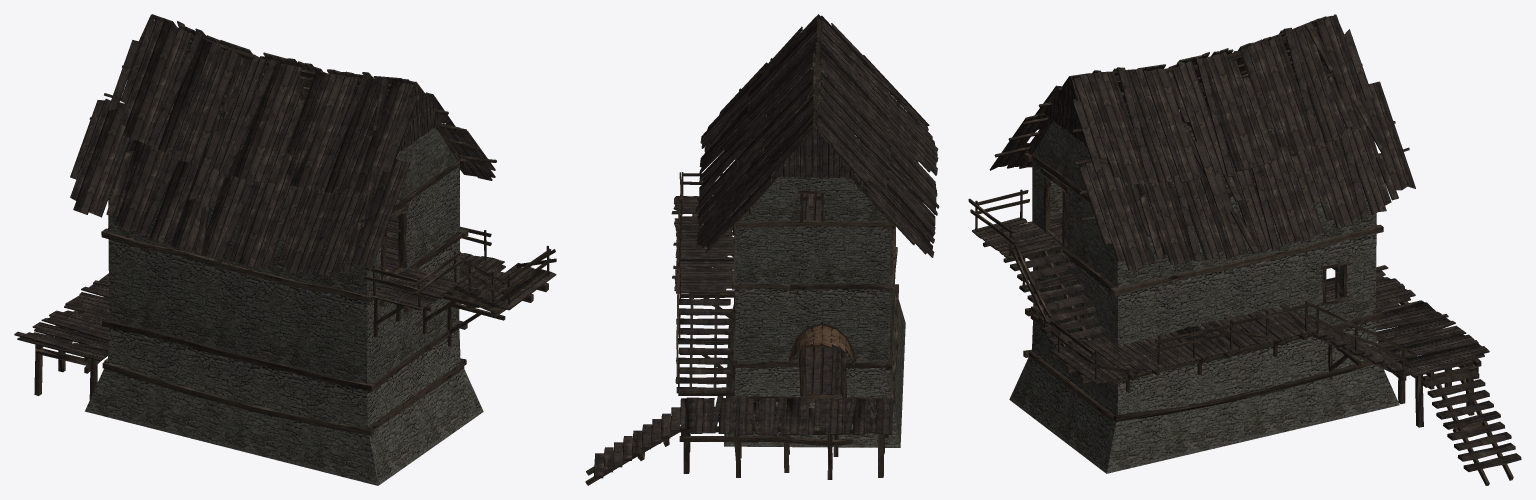
File: G3_Myrtana_Ardea_House_Storage_01.obj
The picture shows the model from 3 angles, left to right: view 1: azimuth 30°, elevation 25°; view 2: azimuth 150°, elevation 25°; view 3: azimuth 270°, elevation 25°; orthographic projection. The views are drawn at different scales.
Visible parts, largest first — view 1: G3_Myrtana_Ardea_House_Storage_01_2, G3_Myrtana_Ardea_House_Storage_01_0, G3_Myrtana_Ardea_House_Storage_01_3; view 2: G3_Myrtana_Ardea_House_Storage_01_2, G3_Myrtana_Ardea_House_Storage_01_0, G3_Myrtana_Ardea_House_Storage_01_3, G3_Myrtana_Ardea_House_Storage_01_1; view 3: G3_Myrtana_Ardea_House_Storage_01_2, G3_Myrtana_Ardea_House_Storage_01_0, G3_Myrtana_Ardea_House_Storage_01_3.
Part boxes in pixels (left/top/right/bottom): G3_Myrtana_Ardea_House_Storage_01_2: left=14, top=14, right=556, bottom=361; G3_Myrtana_Ardea_House_Storage_01_0: left=85, top=60, right=483, bottom=485; G3_Myrtana_Ardea_House_Storage_01_3: left=34, top=19, right=556, bottom=435; G3_Myrtana_Ardea_House_Storage_01_2: left=593, top=14, right=939, bottom=478; G3_Myrtana_Ardea_House_Storage_01_0: left=724, top=62, right=905, bottom=447; G3_Myrtana_Ardea_House_Storage_01_3: left=585, top=19, right=898, bottom=485; G3_Myrtana_Ardea_House_Storage_01_1: left=790, top=325, right=854, bottom=366; G3_Myrtana_Ardea_House_Storage_01_2: left=972, top=14, right=1521, bottom=471; G3_Myrtana_Ardea_House_Storage_01_0: left=1009, top=61, right=1399, bottom=473; G3_Myrtana_Ardea_House_Storage_01_3: left=968, top=26, right=1513, bottom=485.
Size of the model in its own units: 18.52 by 17.58 by 22.94.
